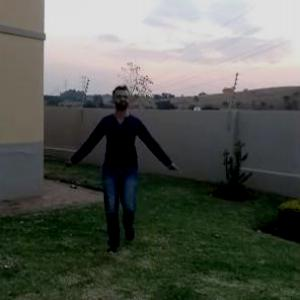land: (79, 96, 168, 223)
